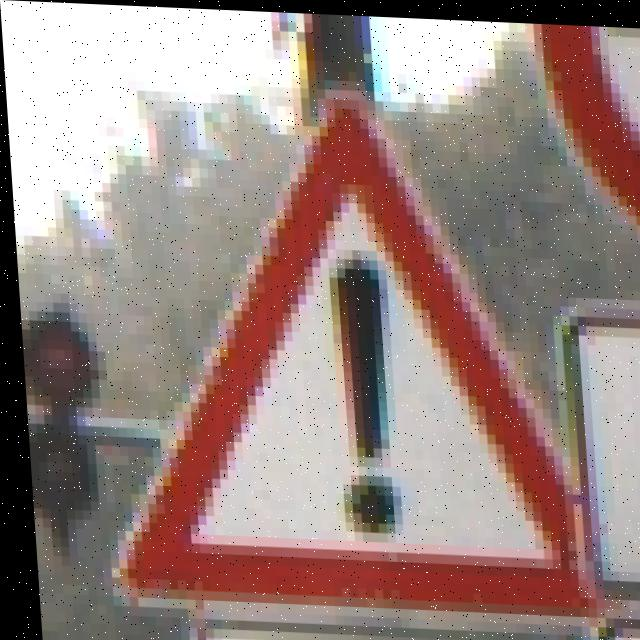warning: (126, 138, 594, 604)
